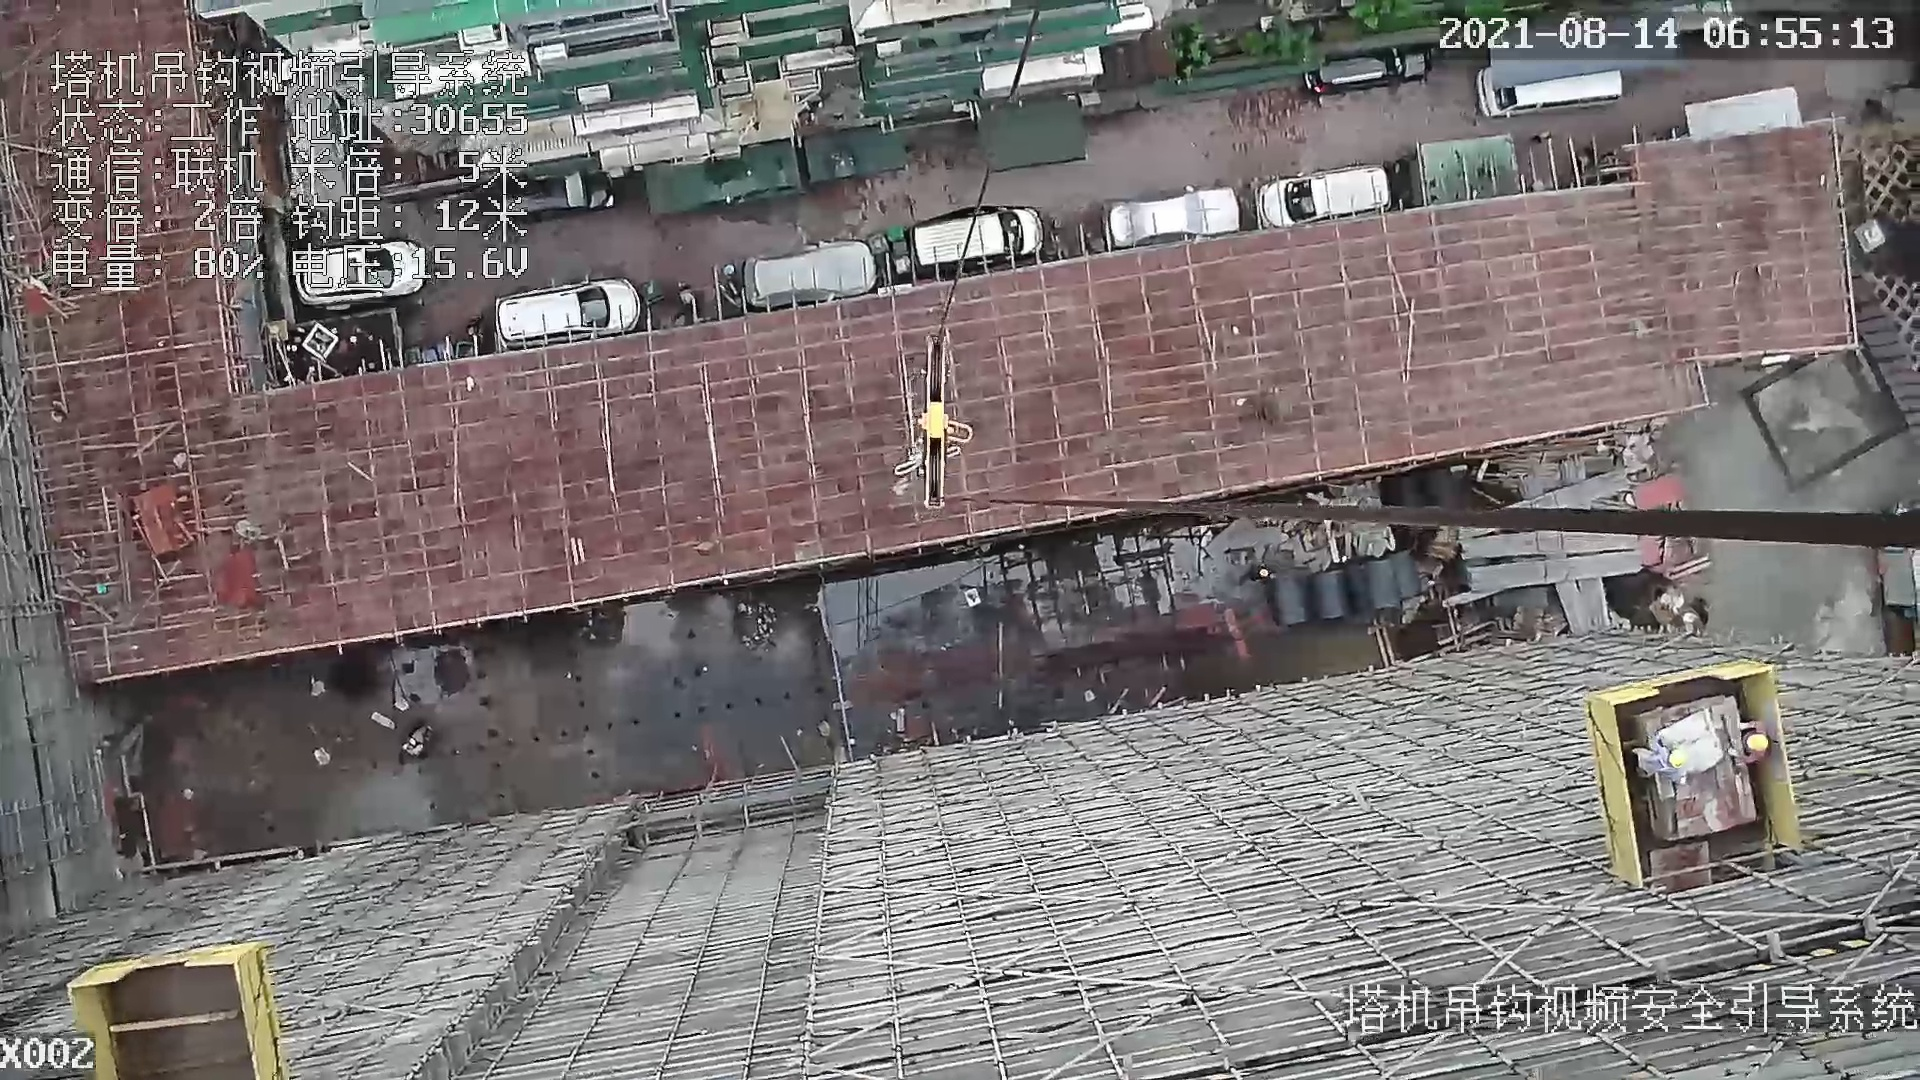board: (1631, 697, 1756, 841)
helmet: (1668, 749, 1687, 768), (1747, 734, 1768, 750)
hook: (919, 330, 976, 512)
person: (1735, 715, 1770, 763), (1642, 746, 1695, 778)
rebar: (1466, 551, 1642, 592), (1460, 530, 1639, 557), (1504, 471, 1622, 507), (1548, 583, 1591, 634), (1578, 581, 1611, 628)
